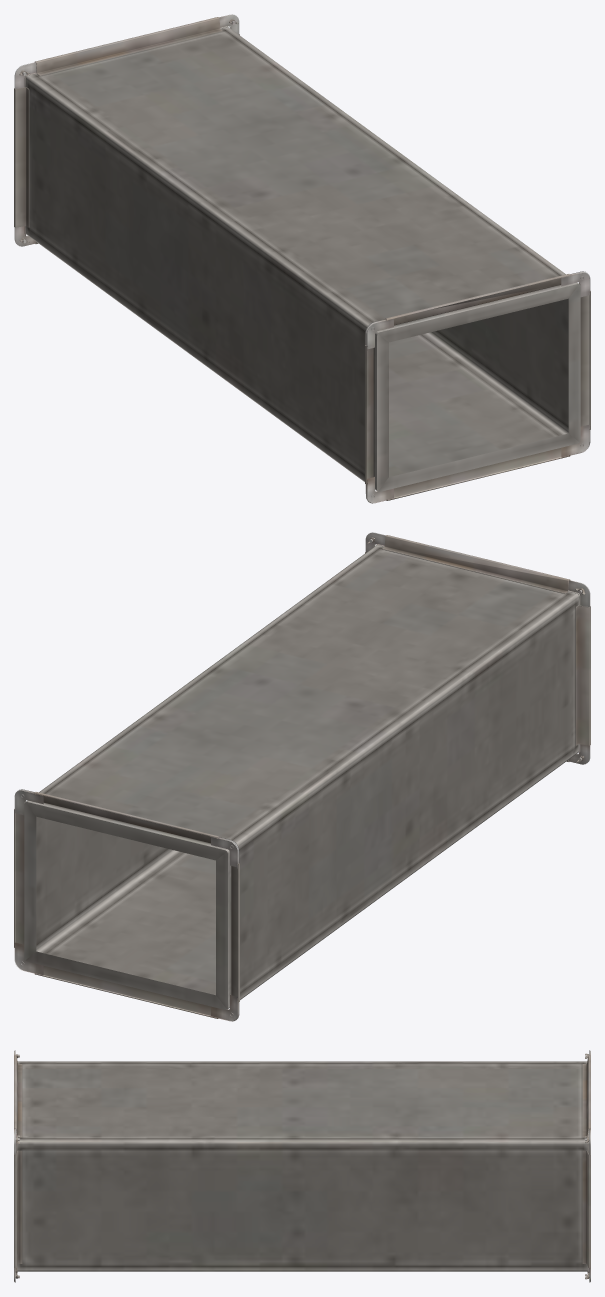
Rendered from modular_airduct_rectangular_01-straight.glb.
3 views of the same model, one above another, from view 1: azimuth 30°, elevation 25°; view 2: azimuth 150°, elevation 25°; view 3: azimuth 270°, elevation 25° (orthographic). The views are drawn at different scales.
Visible parts, largest first — view 1: modular_airduct_rectangular_01_tripple_01; view 2: modular_airduct_rectangular_01_tripple_01; view 3: modular_airduct_rectangular_01_tripple_01.
Part boxes in pixels (x1,y1,x2,y2): modular_airduct_rectangular_01_tripple_01: (14, 14, 590, 503); modular_airduct_rectangular_01_tripple_01: (14, 532, 590, 1021); modular_airduct_rectangular_01_tripple_01: (14, 1050, 590, 1282).
Size of the model in its own units: 0.6634 by 0.5126 by 1.8.
Materials: 2 (2 with a texture image).
